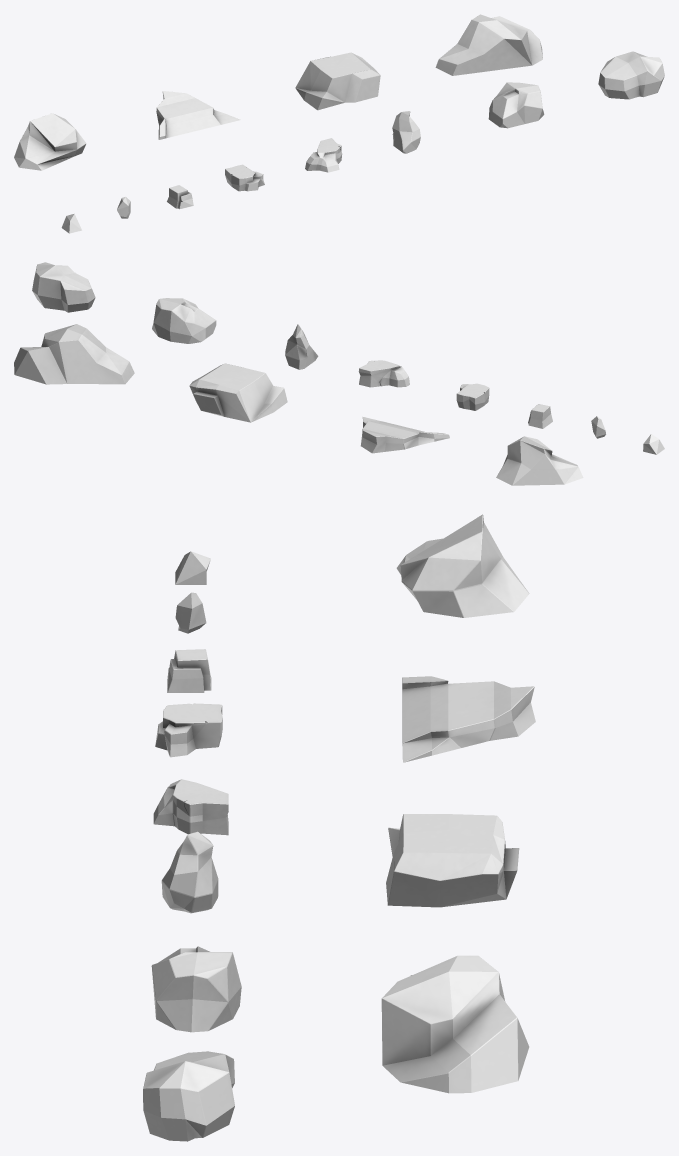
Rendered from rocks.fbx.
3 renders of one model, top to bottom at view 1: azimuth 30°, elevation 25°; view 2: azimuth 150°, elevation 25°; view 3: azimuth 270°, elevation 25°, orthographic. The views are drawn at different scales.
Parts seen in each view (by area): view 1: boulder03, boulder04, boulder05, boulder02, rock_ledge, boulder01, rock03, rock01, rock02, small_rock03; view 2: boulder03, boulder04, boulder05, boulder02, boulder01, rock_ledge, rock01, rock03, rock02, small_rock03; view 3: boulder03, boulder04, rock_ledge, boulder05, boulder02, boulder01, rock03, rock01, rock02, small_rock03, small_rock01, small_rock02.
Boxes of the visible parts, box(x1,y1,x2,y2) form: boulder03: box(435, 14, 542, 75); boulder04: box(295, 52, 380, 110); boulder05: box(14, 113, 86, 170); boulder02: box(598, 51, 664, 99); rock_ledge: box(156, 91, 240, 139); boulder01: box(488, 82, 544, 128); rock03: box(392, 111, 420, 153); rock01: box(305, 138, 342, 172); rock02: box(225, 164, 264, 191); small_rock03: box(167, 185, 193, 209); boulder03: box(14, 324, 134, 384); boulder04: box(189, 363, 287, 422); boulder05: box(496, 436, 583, 485); boulder02: box(32, 262, 95, 312); boulder01: box(152, 298, 216, 343); rock_ledge: box(360, 417, 449, 453); rock01: box(358, 360, 409, 387); rock03: box(285, 324, 318, 369); rock02: box(456, 383, 489, 410); small_rock03: box(528, 404, 552, 428); boulder03: box(381, 955, 529, 1093); boulder04: box(386, 814, 519, 907); rock_ledge: box(402, 676, 535, 762); boulder05: box(396, 514, 529, 617); boulder02: box(143, 1051, 234, 1141); boulder01: box(151, 946, 241, 1032); rock03: box(161, 831, 218, 913); rock01: box(153, 779, 228, 835); rock02: box(155, 703, 222, 757); small_rock03: box(167, 649, 211, 692); small_rock01: box(175, 551, 210, 584); small_rock02: box(175, 592, 206, 633).
Size of the model in its own units: 3053 by 247 by 875.
1 material, 1 textured.
